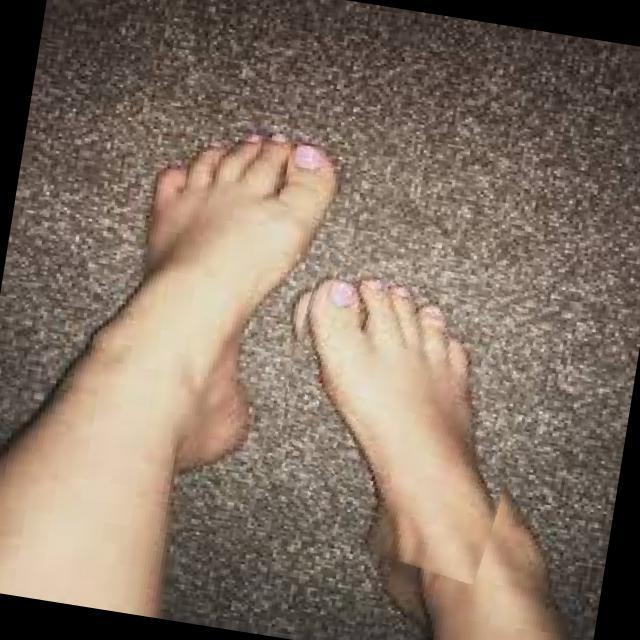No_Shoes: (80, 114, 350, 474), (307, 274, 498, 630)
